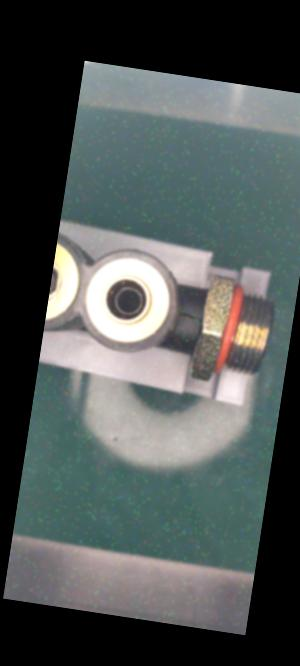craze: (176, 309, 201, 323)
